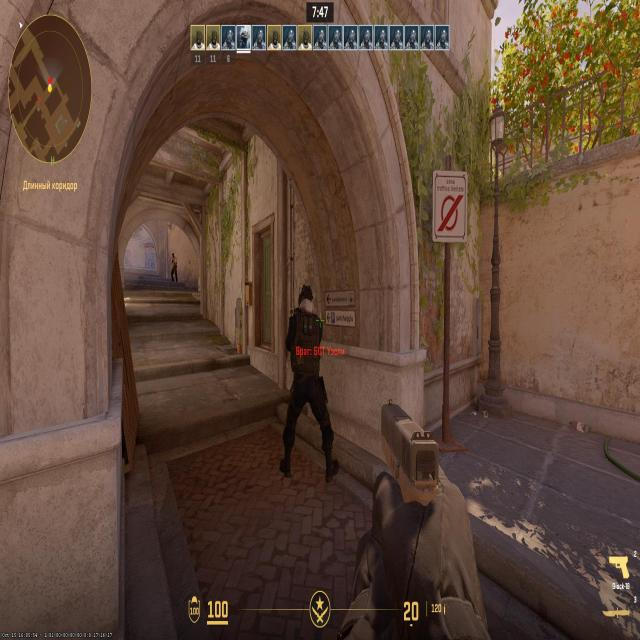CT: (292, 288, 334, 488)
CT_heat: (301, 289, 312, 310)
T: (172, 252, 176, 278)
T_heat: (173, 254, 174, 259)
